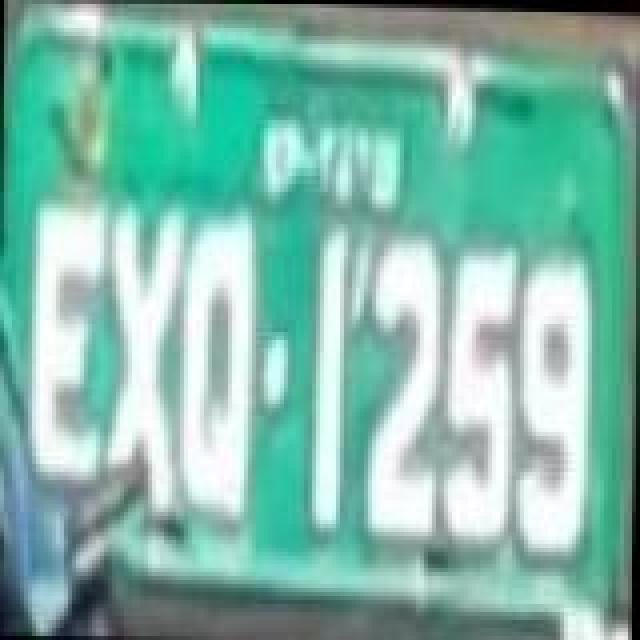1: (312, 224, 348, 536)
2: (364, 234, 444, 546)
5: (516, 250, 596, 554), (438, 248, 514, 552)
E: (28, 200, 112, 480)
Q: (182, 216, 262, 536)
X: (104, 202, 180, 514)
